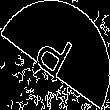P_SW: (31, 24, 79, 86)
